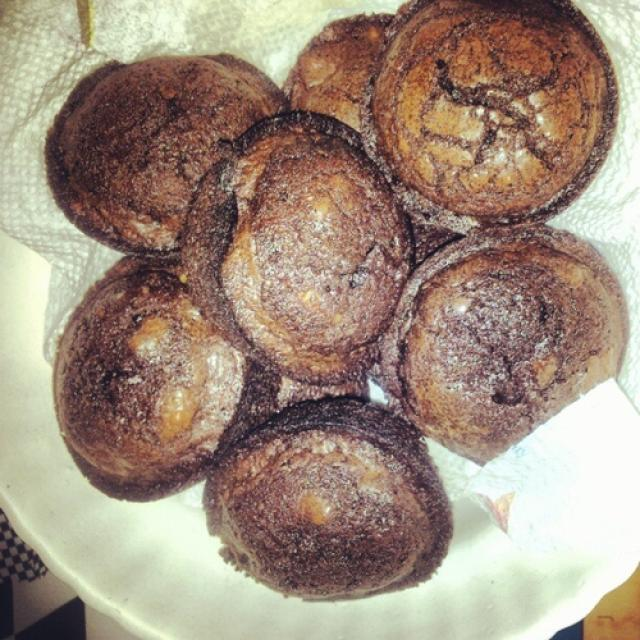蛋糕甜品: (26, 15, 627, 613)
